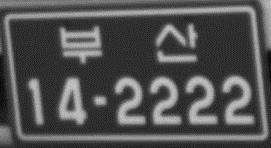-: (89, 94, 111, 110)
1: (25, 74, 47, 126)
2: (220, 73, 258, 129), (183, 73, 220, 128), (113, 75, 147, 127), (149, 74, 182, 125)
4: (56, 74, 87, 124)
부산_D: (57, 21, 200, 66)
